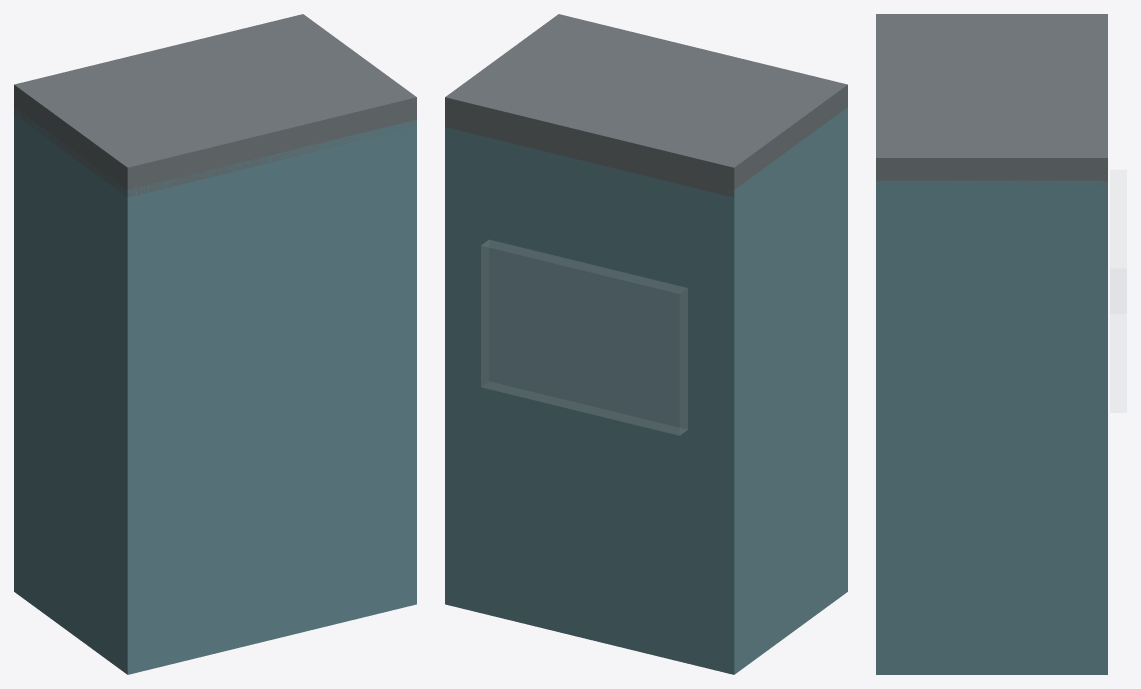
The model's file is iz2_mission_medical_coolcase.glb.
3 renders of one model, left to right at view 1: azimuth 30°, elevation 25°; view 2: azimuth 150°, elevation 25°; view 3: azimuth 270°, elevation 25°, orthographic.
Parts seen in each view (by area): view 1: body, lid; view 2: body, lid, screen; view 3: body, lid, screen.
Part boxes in pixels (x1=…): body: x1=14, y1=107, x2=416, y2=674; lid: x1=14, y1=14, x2=416, y2=197; body: x1=445, y1=107, x2=847, y2=674; lid: x1=445, y1=14, x2=847, y2=197; screen: x1=481, y1=240, x2=687, y2=435; body: x1=876, y1=180, x2=1107, y2=674; lid: x1=876, y1=14, x2=1107, y2=188; screen: x1=1110, y1=170, x2=1126, y2=412.
Size of the model in its own units: 0.8156 by 1.37 by 0.6009.
